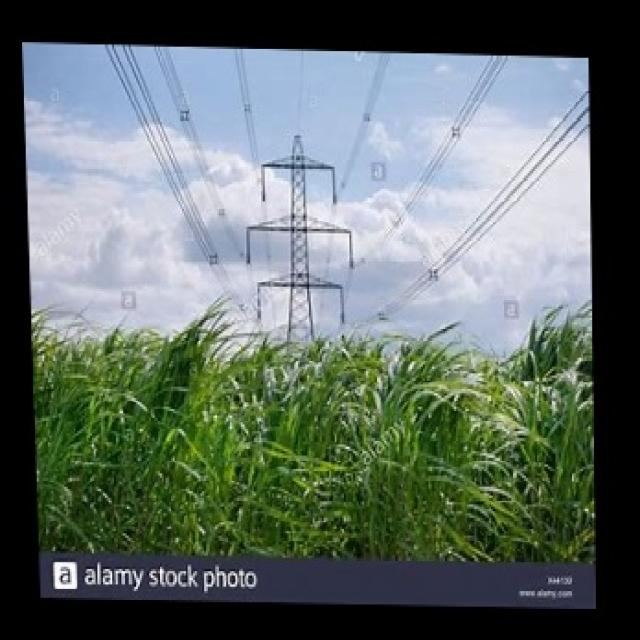utility poles: (239, 83, 378, 558)
